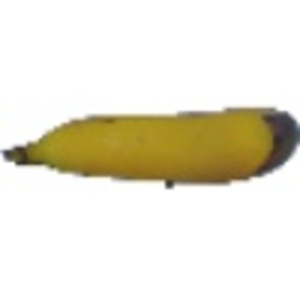banana: (19, 94, 287, 184)
